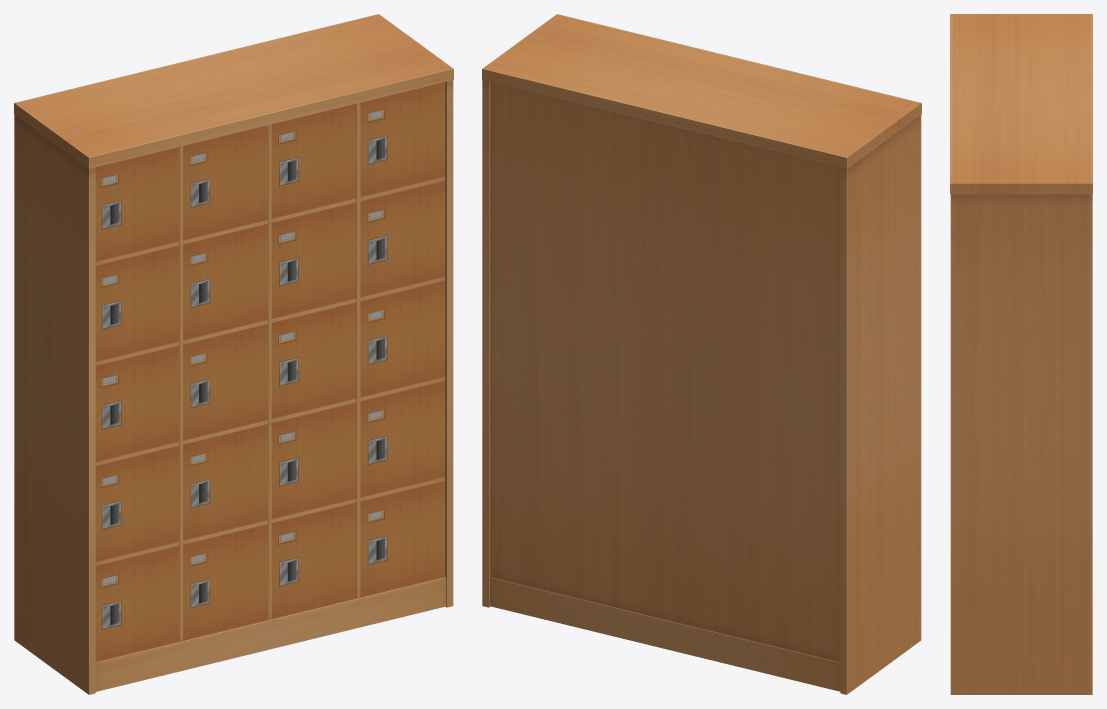
The model's file is set_shoecupboard_b_03.fbx.
The picture shows the model from 3 angles, left to right: view 1: azimuth 30°, elevation 25°; view 2: azimuth 150°, elevation 25°; view 3: azimuth 270°, elevation 25°; orthographic projection. The views are drawn at different scales.
Parts seen in each view (by area): view 1: shoecupboard_b_03, door_b_03_17, door_b_03_13, door_b_03_14, door_b_03_15, door_b_03_18, door_b_03_19, door_b_03_20, door_b_03_12, door_b_03_07, door_b_03_09, door_b_03_02 (+9 smaller); view 2: shoecupboard_b_03; view 3: shoecupboard_b_03.
Boxes of the visible parts, bbox=[...] form: shoecupboard_b_03: bbox=[14, 14, 453, 694]; door_b_03_17: bbox=[360, 180, 445, 297]; door_b_03_13: bbox=[271, 302, 356, 418]; door_b_03_14: bbox=[271, 402, 356, 519]; door_b_03_15: bbox=[271, 502, 356, 619]; door_b_03_18: bbox=[360, 280, 445, 397]; door_b_03_19: bbox=[360, 380, 445, 497]; door_b_03_20: bbox=[360, 481, 445, 597]; door_b_03_12: bbox=[271, 202, 356, 318]; door_b_03_07: bbox=[183, 223, 267, 340]; door_b_03_09: bbox=[183, 424, 267, 540]; door_b_03_02: bbox=[95, 245, 179, 361]; shoecupboard_b_03: bbox=[482, 14, 921, 694]; shoecupboard_b_03: bbox=[950, 14, 1092, 694].
Bounding box in the file's own units: 105 × 148 × 37.38.
